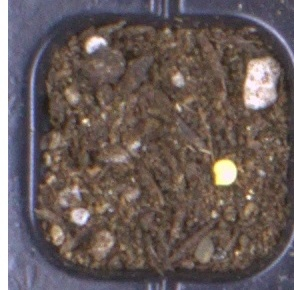chilli seed: (212, 158, 237, 186)
